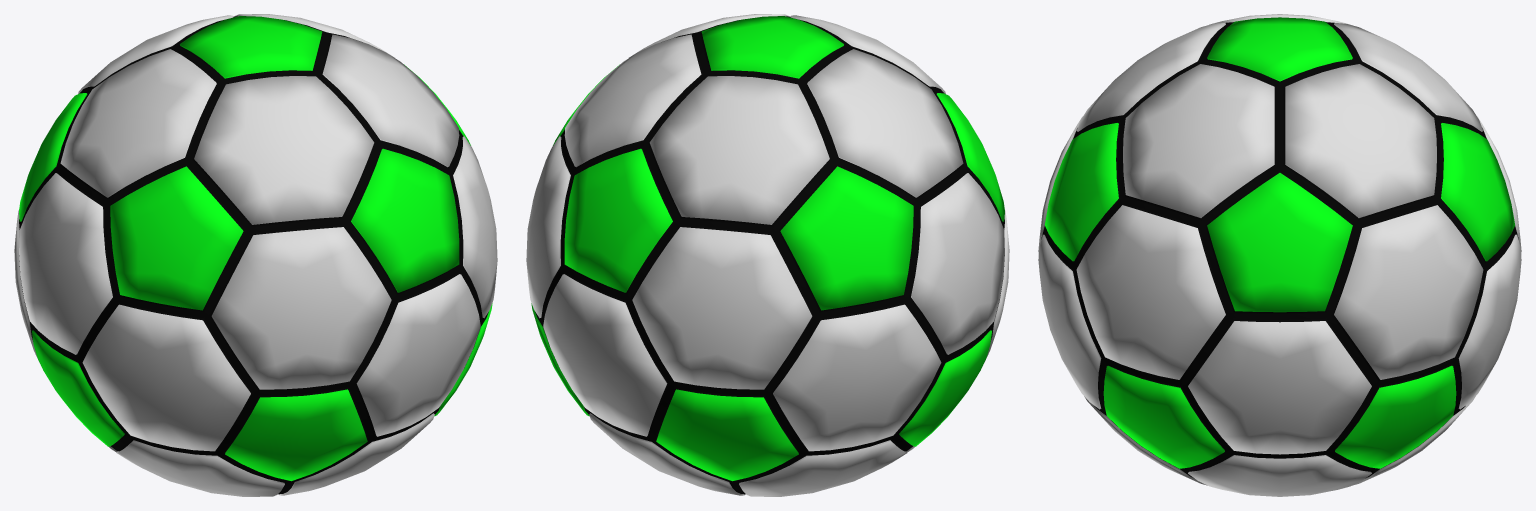
The model's file is balonverde.glb.
The picture shows the model from 3 angles, left to right: view 1: azimuth 30°, elevation 25°; view 2: azimuth 150°, elevation 25°; view 3: azimuth 270°, elevation 25°; orthographic projection.
Visible parts, largest first — view 1: BalonVerde; view 2: BalonVerde; view 3: BalonVerde.
Boxes of the visible parts, left/top/right/bottom form: BalonVerde: left=14, top=14, right=497, bottom=496; BalonVerde: left=526, top=14, right=1009, bottom=496; BalonVerde: left=1038, top=14, right=1521, bottom=496.
Bounding box in the file's own units: 1.7 × 1.7 × 1.7.
